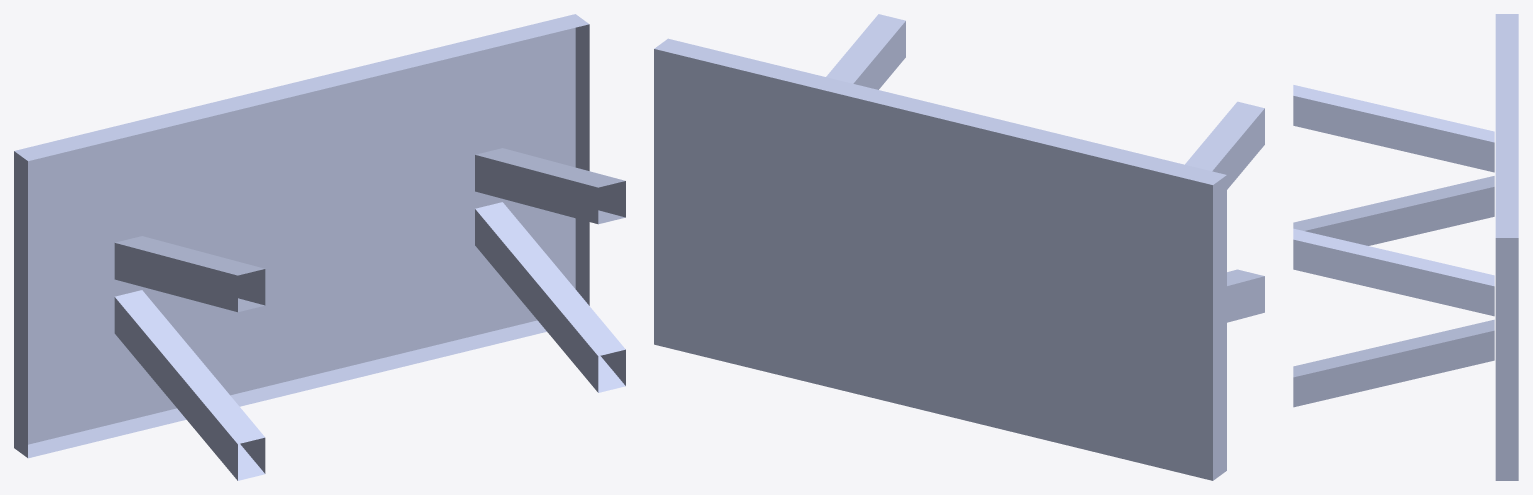
3 views of the same model, side by side, from view 1: azimuth 30°, elevation 25°; view 2: azimuth 150°, elevation 25°; view 3: azimuth 270°, elevation 25° (orthographic). The views are drawn at different scales.
Parts seen in each view (by area): view 1: Object42; view 2: Object42; view 3: Object42.
Part boxes in pixels (x1,y1,x2,y2): Object42: (14,14,625,480); Object42: (654,14,1264,480); Object42: (1293,14,1518,480).
Size of the model in its own units: 20347 by 10289 by 8658.
